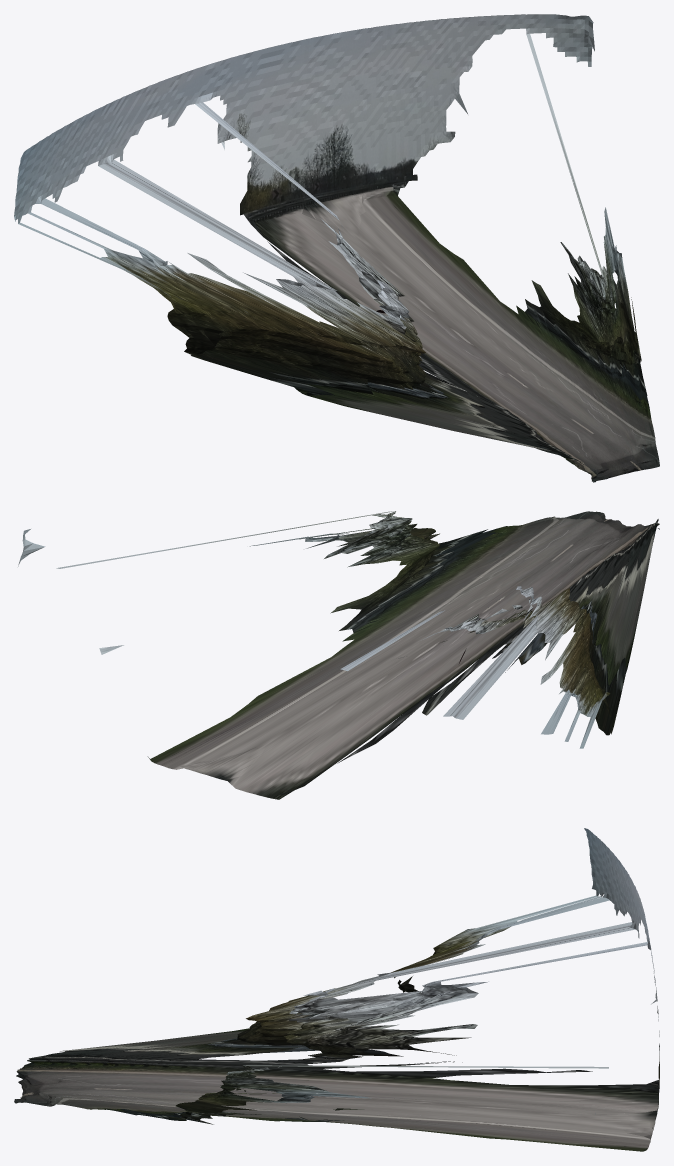
3 views of the same model, one above another, from view 1: azimuth 30°, elevation 25°; view 2: azimuth 150°, elevation 25°; view 3: azimuth 270°, elevation 25° (orthographic). The views are drawn at different scales.
Parts seen in each view (by area): view 1: defaultobject; view 2: defaultobject; view 3: defaultobject.
Boxes of the visible parts, x1,y1,x2,y2 form: defaultobject: (14,14,659,482); defaultobject: (18,511,659,799); defaultobject: (14,828,659,1151).
Size of the model in its own units: 40.95 by 12.22 by 44.69.
1 material, 1 textured.
